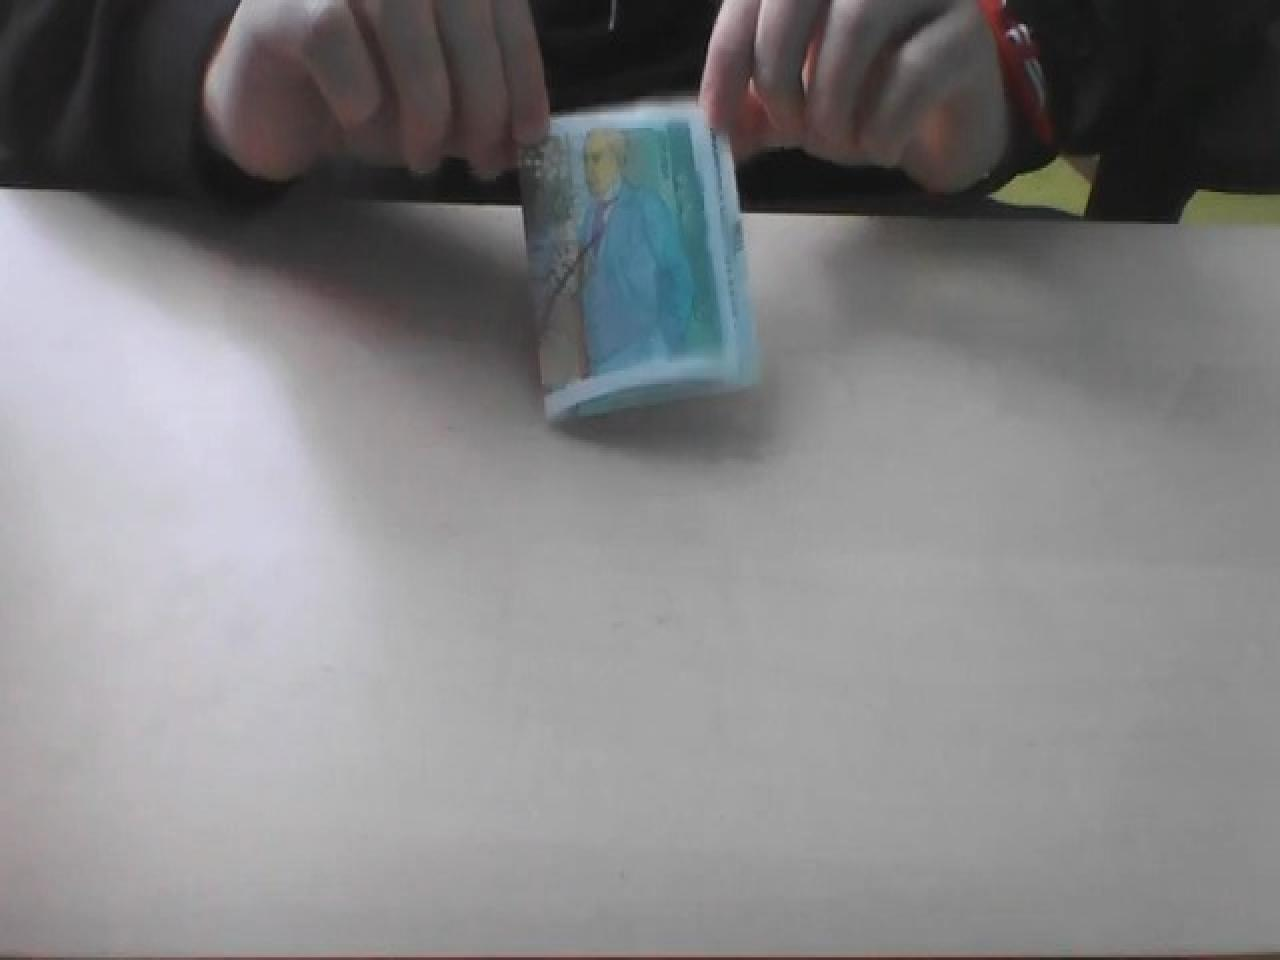100leva: (522, 101, 764, 427)
